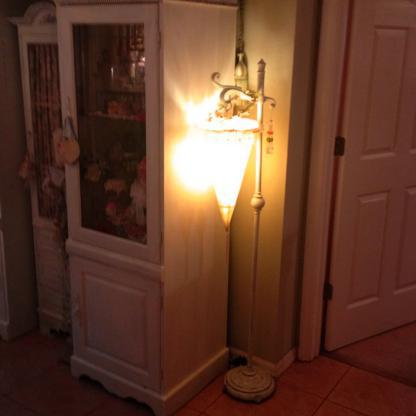door: (334, 0, 416, 364)
hinged: (326, 279, 336, 300), (336, 136, 346, 154)
